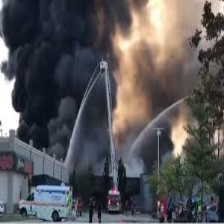smoke: (4, 2, 118, 151)
